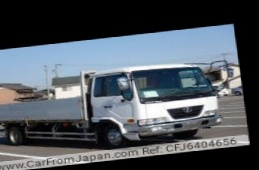truck: (0, 54, 224, 162)
